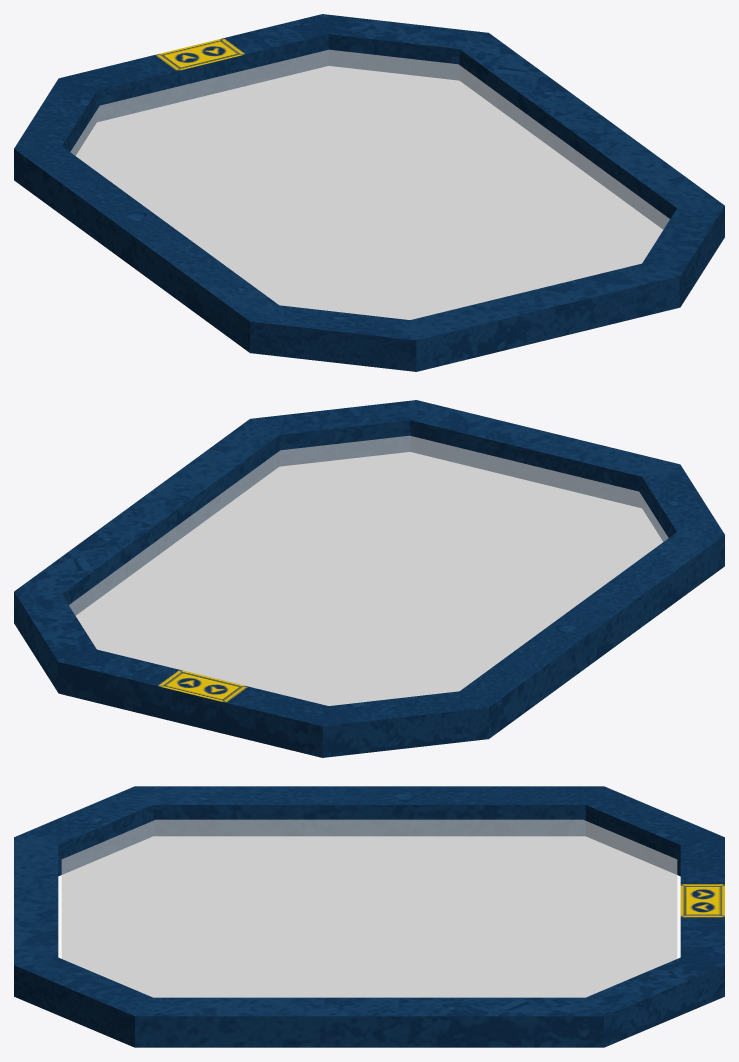
The model's file is Elevator.glb.
The picture shows the model from 3 angles, top to bottom: view 1: azimuth 30°, elevation 25°; view 2: azimuth 150°, elevation 25°; view 3: azimuth 270°, elevation 25°; orthographic projection.
Visible parts, largest first — view 1: Elevator; view 2: Elevator; view 3: Elevator.
Boxes of the visible parts, box(x1,y1,x2,y2) form: Elevator: box(14, 14, 724, 371); Elevator: box(14, 400, 724, 757); Elevator: box(14, 786, 724, 1047).
Size of what is drawn, in the model's own units: 1.78 by 0.113 by 2.32.
2 materials, 1 textured.
